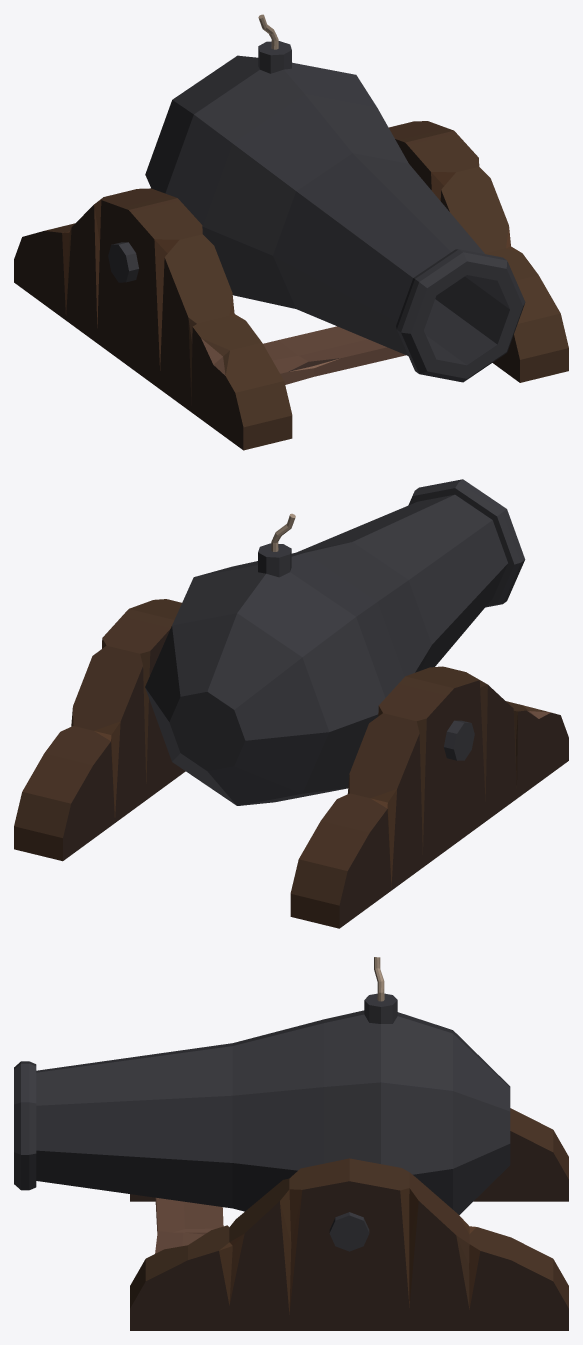
File: Cannon_02.glb
The picture shows the model from 3 angles, top to bottom: view 1: azimuth 30°, elevation 25°; view 2: azimuth 150°, elevation 25°; view 3: azimuth 270°, elevation 25°; orthographic projection. The views are drawn at different scales.
Visible parts, largest first — view 1: Cannon_02; view 2: Cannon_02; view 3: Cannon_02.
Boxes of the visible parts, bbox=[...] form: Cannon_02: bbox=[14, 14, 568, 450]; Cannon_02: bbox=[14, 479, 568, 928]; Cannon_02: bbox=[14, 957, 568, 1330].
Size of what is drawn, in the model's own units: 1.28 by 1.08 by 1.87.
1 material, 1 textured.
